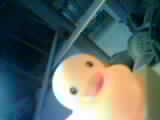duck: (45, 49, 156, 114)
